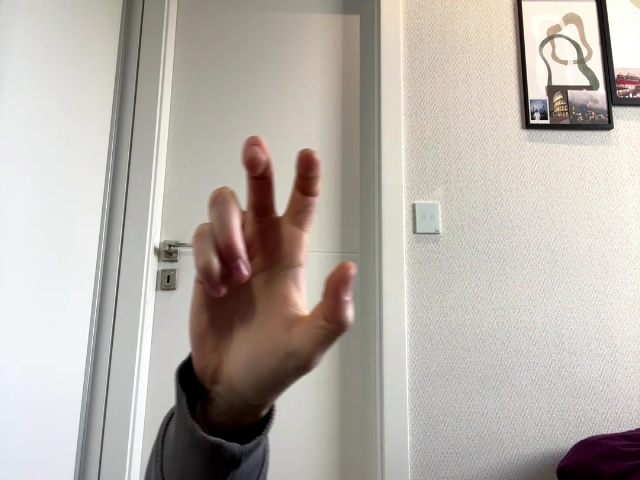CH: (188, 135, 356, 375)
